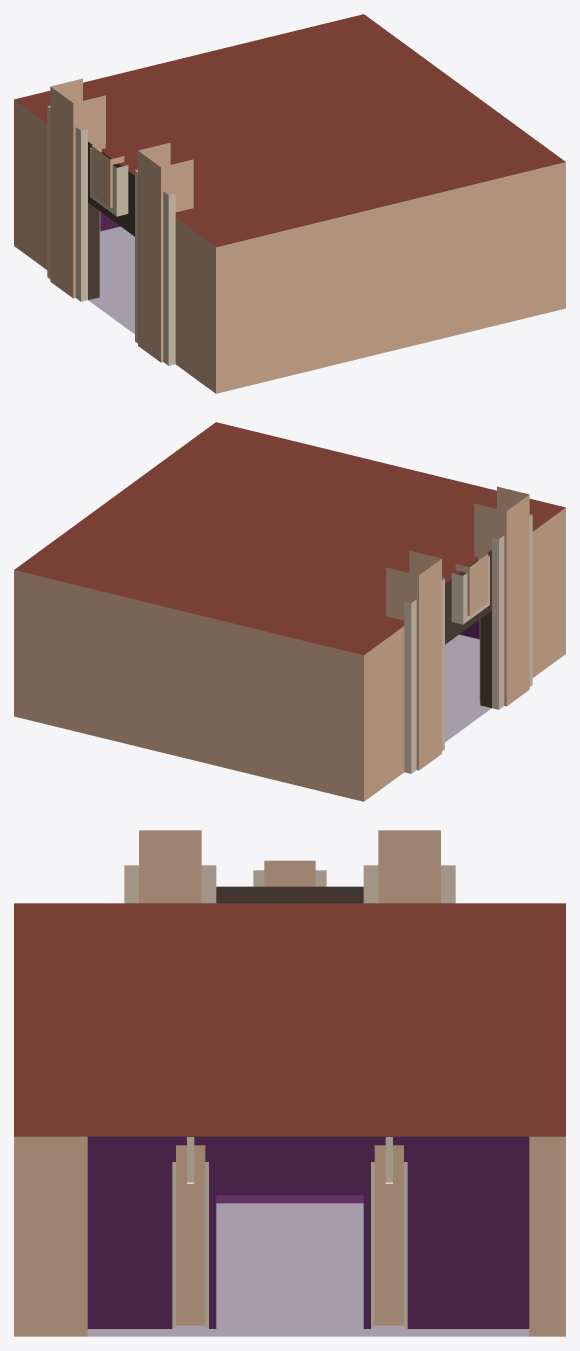
File: instruments_room.dae
3 views of the same model, one above another, from view 1: azimuth 30°, elevation 25°; view 2: azimuth 150°, elevation 25°; view 3: azimuth 270°, elevation 25° (orthographic). The views are drawn at different scales.
Visible parts, largest first — view 1: $dummy_node (×5); view 2: $dummy_node (×5); view 3: $dummy_node (×6).
Part boxes in pixels (x1,y1,x2,y2): $dummy_node (×5): (14, 14, 565, 393); $dummy_node (×5): (14, 422, 565, 801); $dummy_node (×6): (14, 830, 565, 1336).
Bounding box in the file's own units: 15.6 × 8 × 15.
